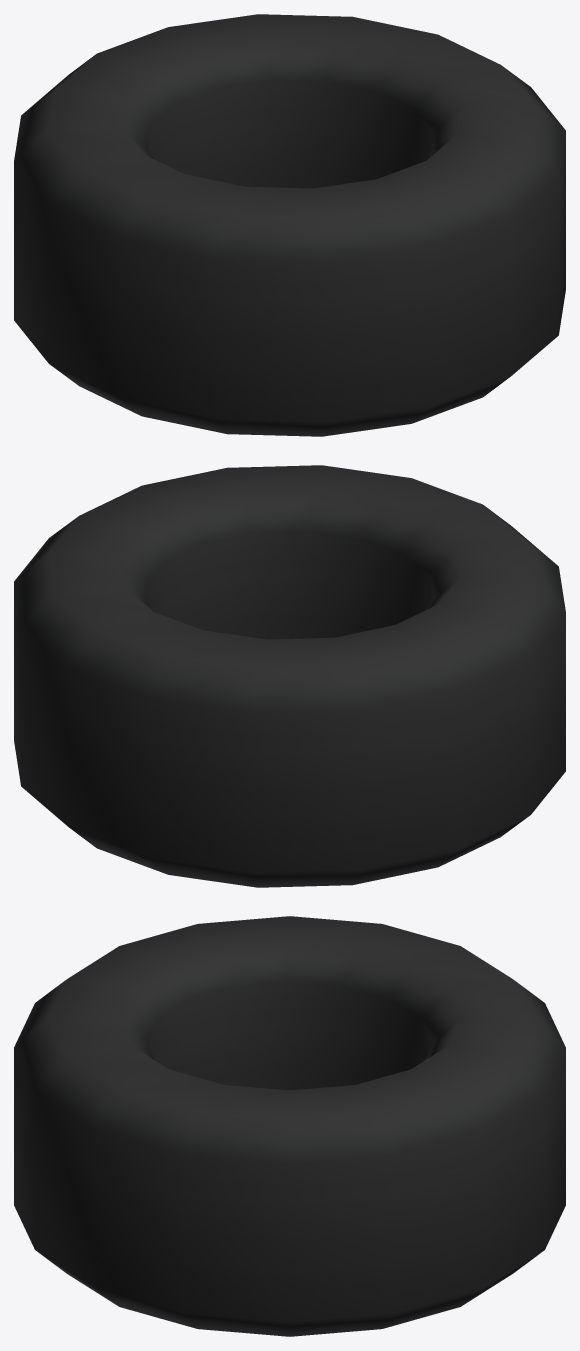
Rendered from Barrier_Wheel_07.fbx.
3 renders of one model, top to bottom at view 1: azimuth 30°, elevation 25°; view 2: azimuth 150°, elevation 25°; view 3: azimuth 270°, elevation 25°, orthographic.
Visible parts, largest first — view 1: Barrier_Wheel_07; view 2: Barrier_Wheel_07; view 3: Barrier_Wheel_07.
Part boxes in pixels (left/top/right/bottom): Barrier_Wheel_07: left=14, top=14, right=565, bottom=436; Barrier_Wheel_07: left=14, top=465, right=565, bottom=887; Barrier_Wheel_07: left=14, top=916, right=565, bottom=1336.
Bounding box in the file's own units: 100 × 100 × 43.33.
